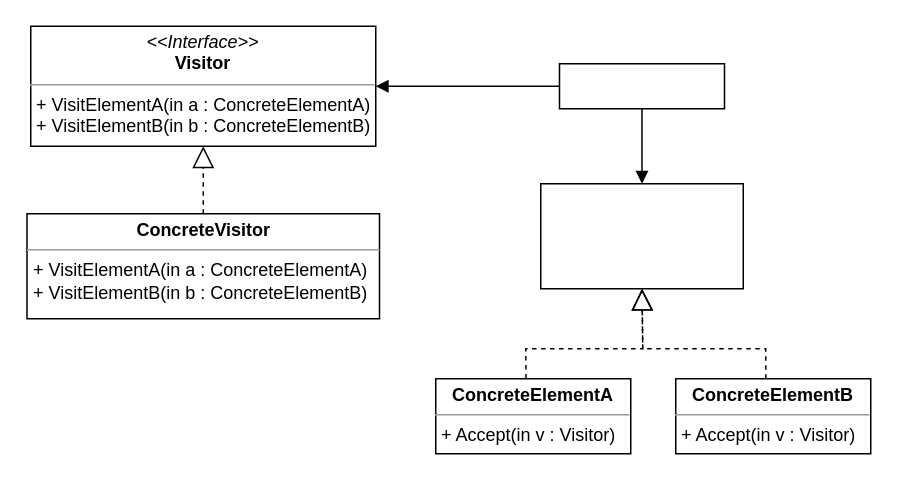
This 897x480 diagram has some shape labels left out. The box of each missing label's shape, as (x1, y1, x2, y2) in pixels:
<<Interface>> Element + Accept(in v : Visitor): (539, 182, 743, 289)
Client: (558, 62, 724, 109)
